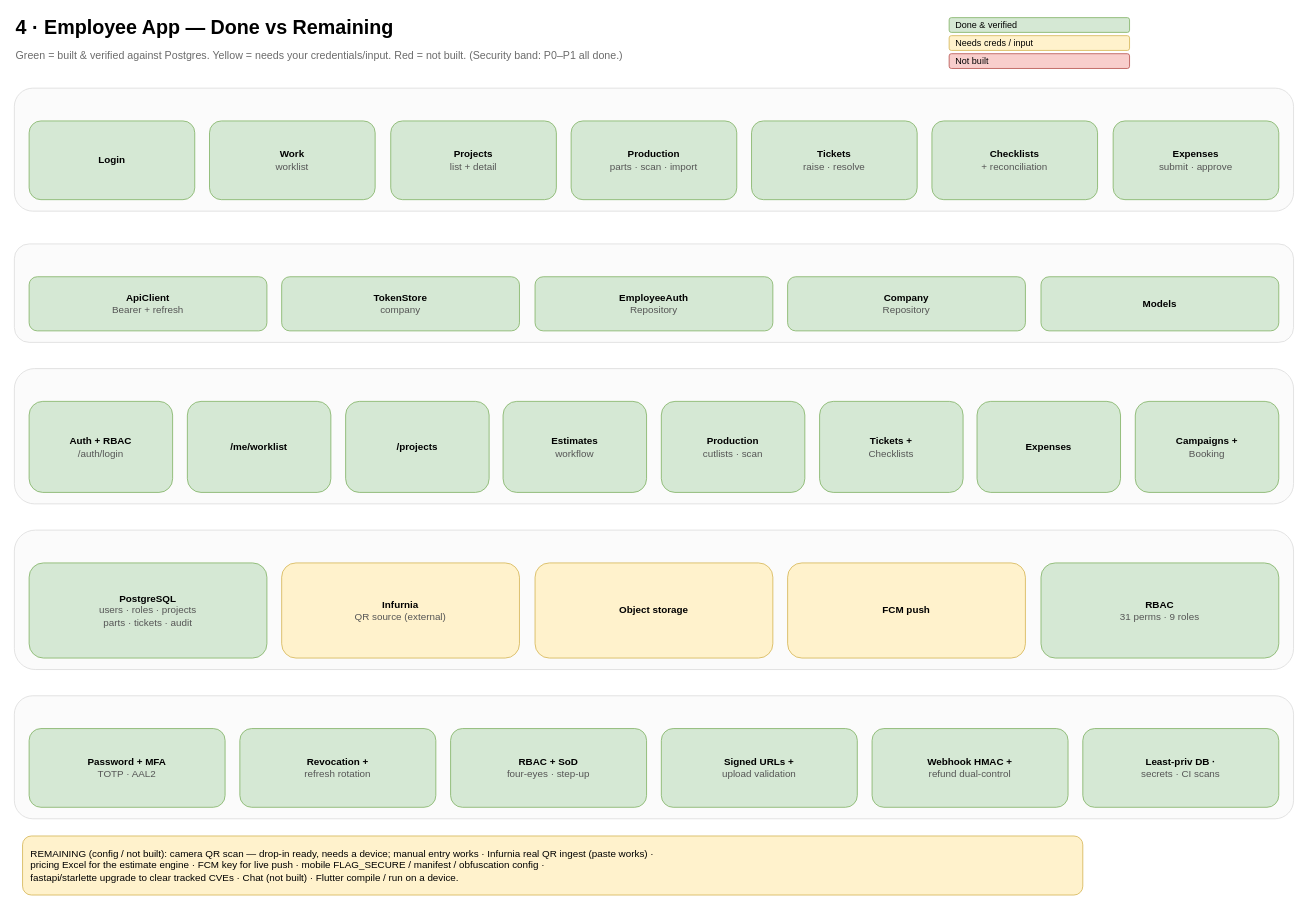
Image size: 1308x909. Some labels were removed from this diagram. Here are the shapes that lost their labels. From the top down, the box of each, then its label:
(14, 87, 1294, 211): COMPANY APP (Flutter · Dart)
(14, 243, 1294, 342): ij_core — shared Dart package
(14, 368, 1294, 504): BACKEND — Company surface (FastAPI)
(14, 529, 1294, 670): DOMAIN · DATA · EXTERNAL
(14, 695, 1294, 819): SECURITY & COMPLIANCE — cross-cutting (P0–P1 built & verified)
